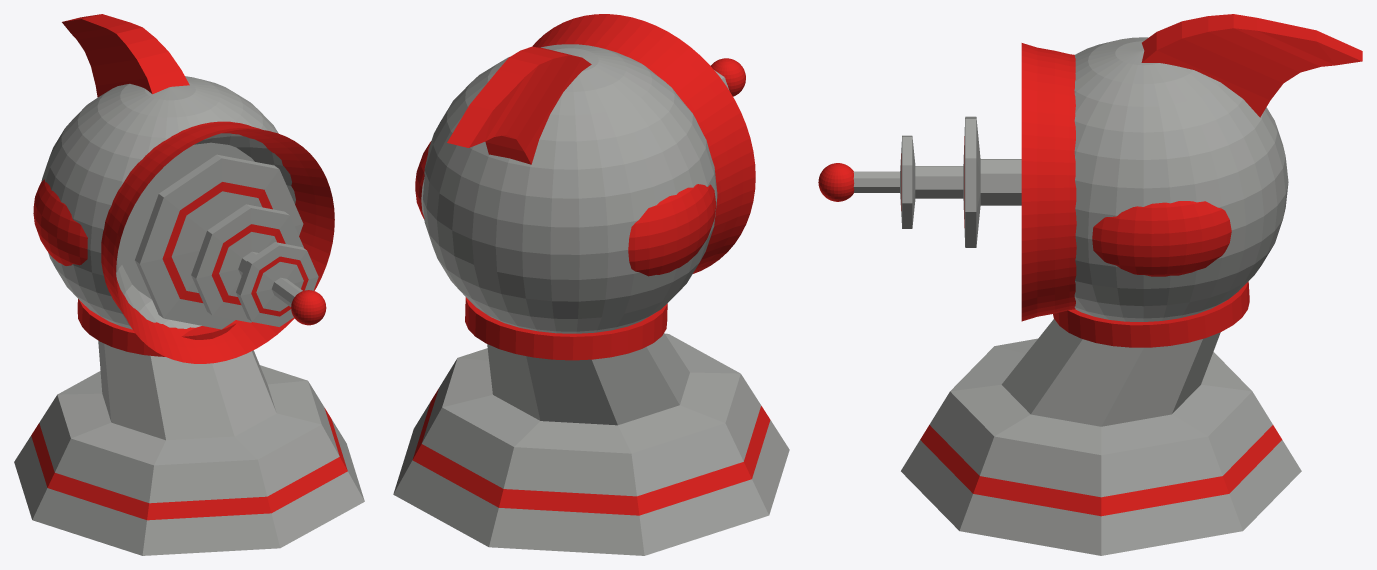
The model's file is Laser_Tower_Upgraded_Fire.fbx.
The picture shows the model from 3 angles, left to right: view 1: azimuth 30°, elevation 25°; view 2: azimuth 150°, elevation 25°; view 3: azimuth 270°, elevation 25°; orthographic projection. The views are drawn at different scales.
Visible parts, largest first — view 1: Sphere; view 2: Sphere; view 3: Sphere.
Part boxes in pixels (x1,y1,x2,y2): Sphere: (14,14,364,555); Sphere: (393,14,789,555); Sphere: (818,14,1362,555).
Bounding box in the file's own units: 445 × 551 × 603.
Materials: 1 (1 with a texture image).
